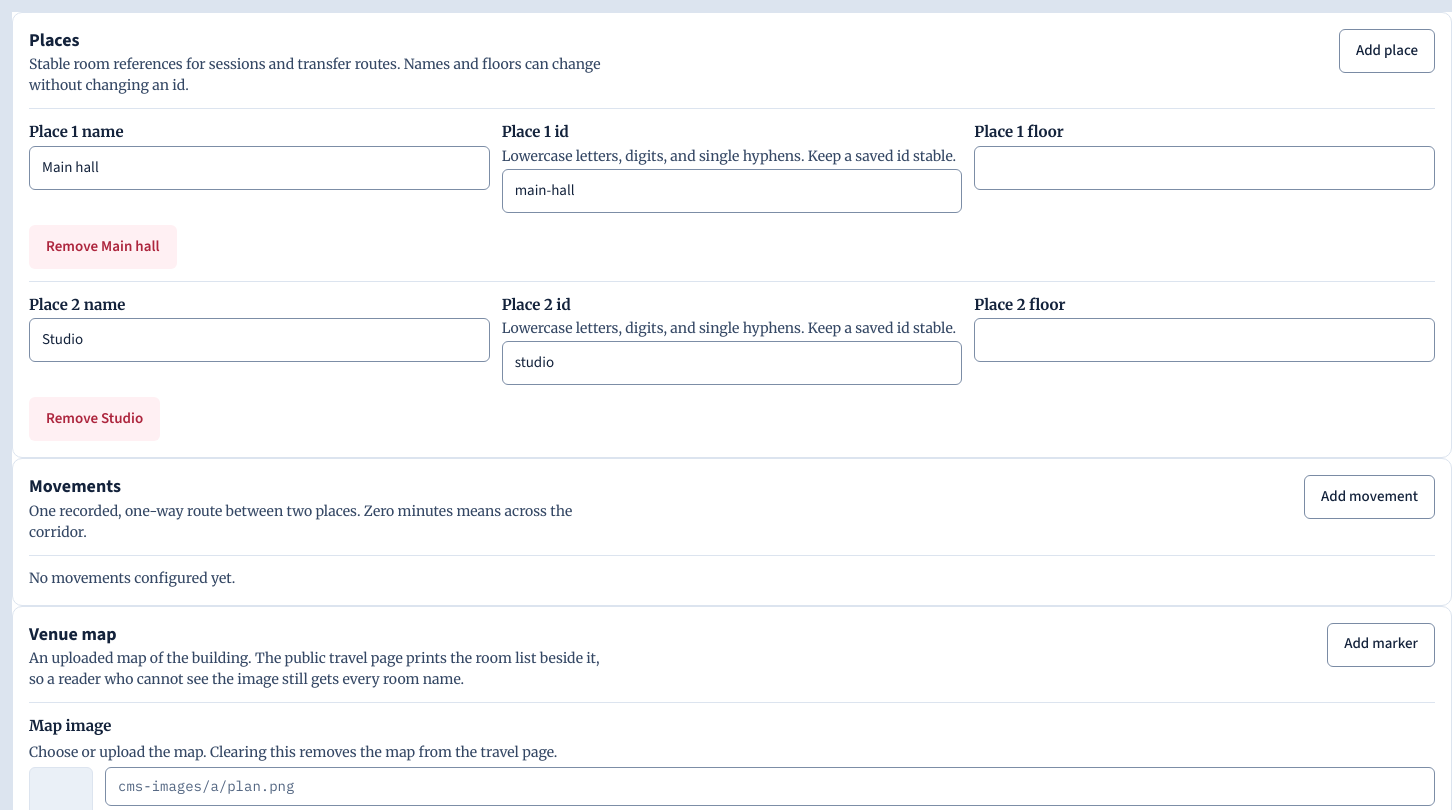
VenueReferenceEditor map panel › takes a room’s marker with it when the room is removed
The image size is (1452, 810).
Click the button "Remove Studio" at (95, 419), box [29,397,160,441]
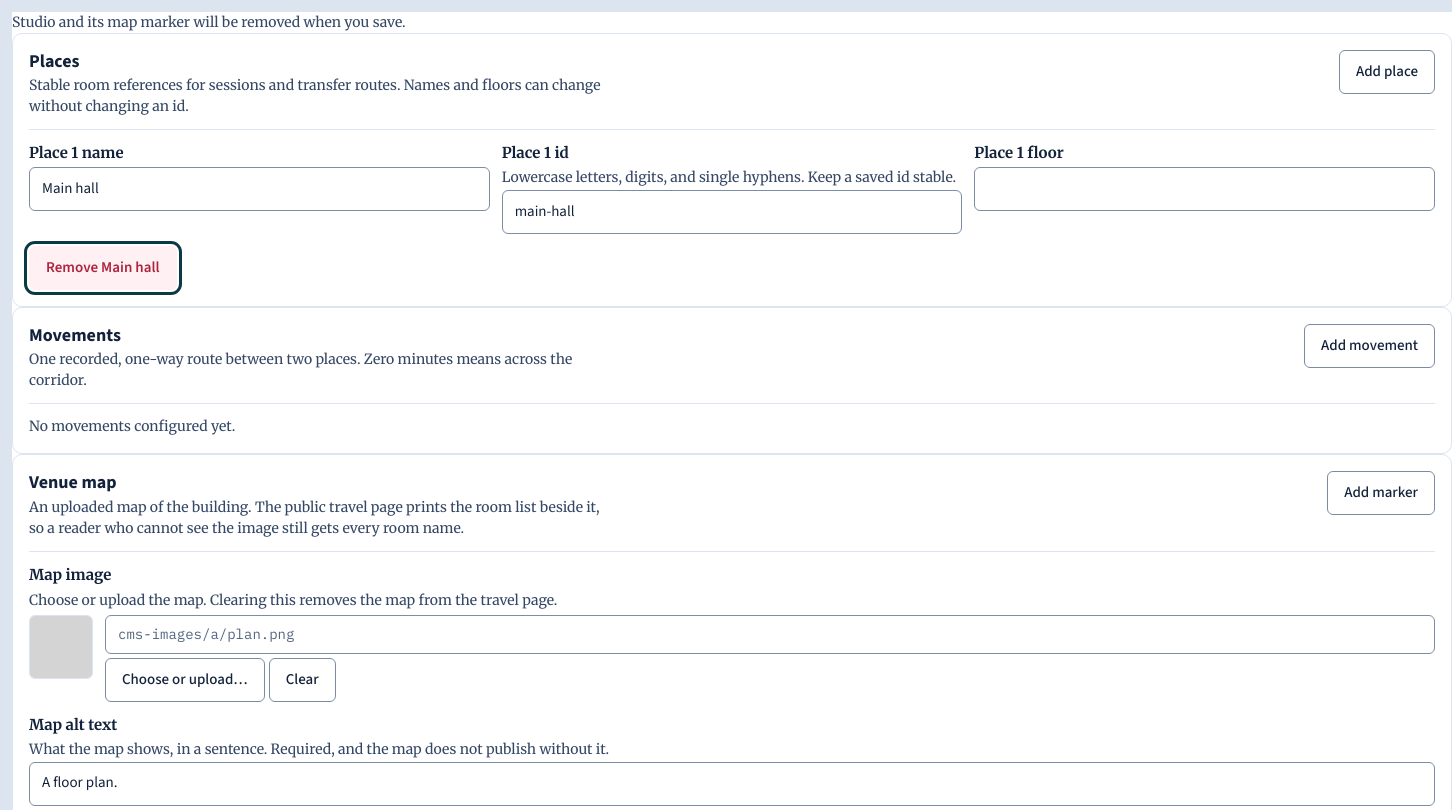
Now the message shows "its map marker", box [12,13,406,31]
